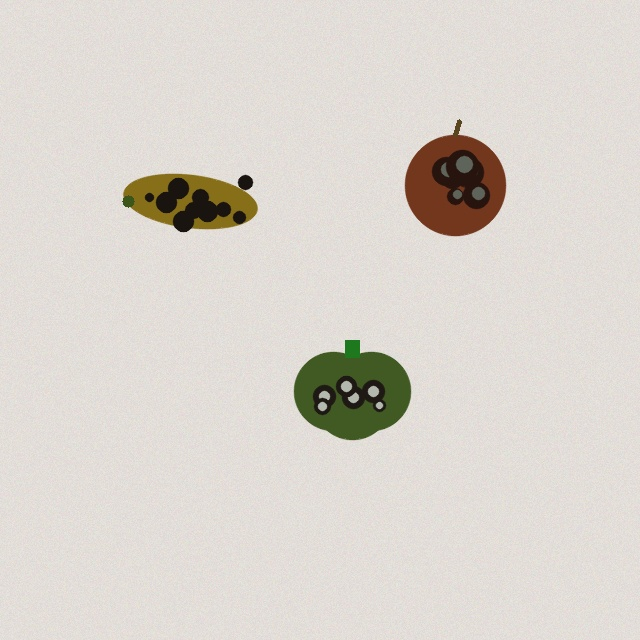Rotten apple: (405, 121, 505, 235)
Rotten banana: (120, 169, 260, 233)
Rotten bell pepper: (294, 340, 410, 439)
